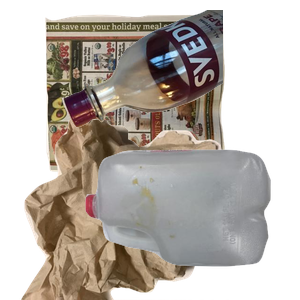glass: (60, 10, 300, 130)
paper: (42, 12, 260, 185)
plastic: (83, 147, 300, 300)
trash: (19, 120, 249, 300)
